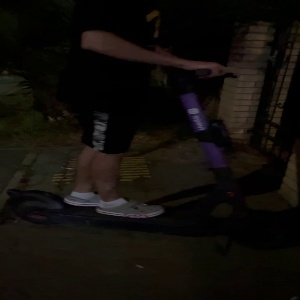human on a scooter: (6, 1, 278, 246)
